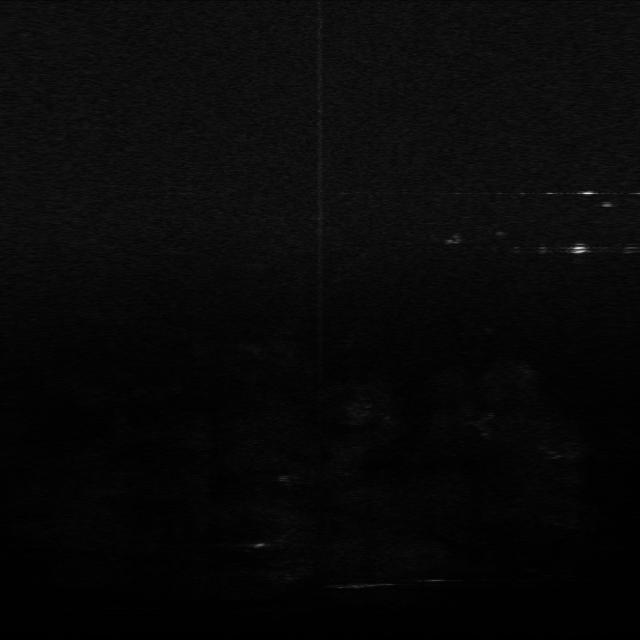rov: (566, 238, 590, 258)
